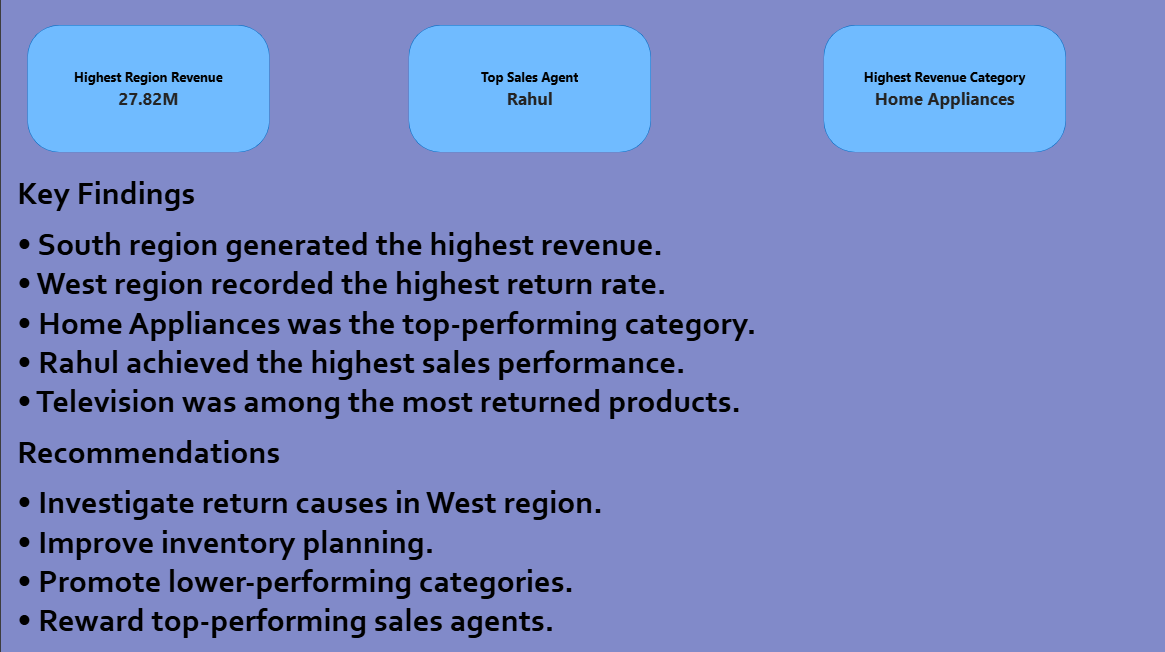

The page's visual inventory and layout, read from the dashboard file:
{"tool":"powerbi","page":{"name":"Executive Insights","canvas":[1920,1080],"ordinal":1},"visuals":[{"type":"shape","box":[43.2,41.2,399.3,209.9],"z":0},{"type":"shape","box":[1354.4,41.2,399.3,209.9],"z":1},{"type":"shape","box":[671,41.2,399.3,209.9],"z":2},{"type":"cardVisual","fields":{"Data":["Measure Tabale.Highest Region Revenue"]},"box":[43.2,41.2,399.3,209.9],"z":3},{"type":"cardVisual","fields":{"Data":["Measure Tabale.Highest Revenue Category"]},"box":[1354.4,41.2,399.3,209.9],"z":4},{"type":"cardVisual","fields":{"Data":["Measure Tabale.Top Sales Agent"]},"box":[671,41.2,399.3,209.9],"z":5},{"type":"textbox","box":[26.8,286.1,1772.2,794.5],"z":6}]}

Visuals, with their boxes in screenshot pixels (x1, y1, x2, y2), scaled from the page's 1920x1080 canvas onto the 1165x652 screenshot:
shape: <bbox>26, 25, 268, 152</bbox>
shape: <bbox>822, 25, 1064, 152</bbox>
shape: <bbox>407, 25, 649, 152</bbox>
cardVisual - Measure Tabale.Highest Region Revenue: <bbox>26, 25, 268, 152</bbox>
cardVisual - Measure Tabale.Highest Revenue Category: <bbox>822, 25, 1064, 152</bbox>
cardVisual - Measure Tabale.Top Sales Agent: <bbox>407, 25, 649, 152</bbox>
textbox: <bbox>16, 173, 1092, 651</bbox>
